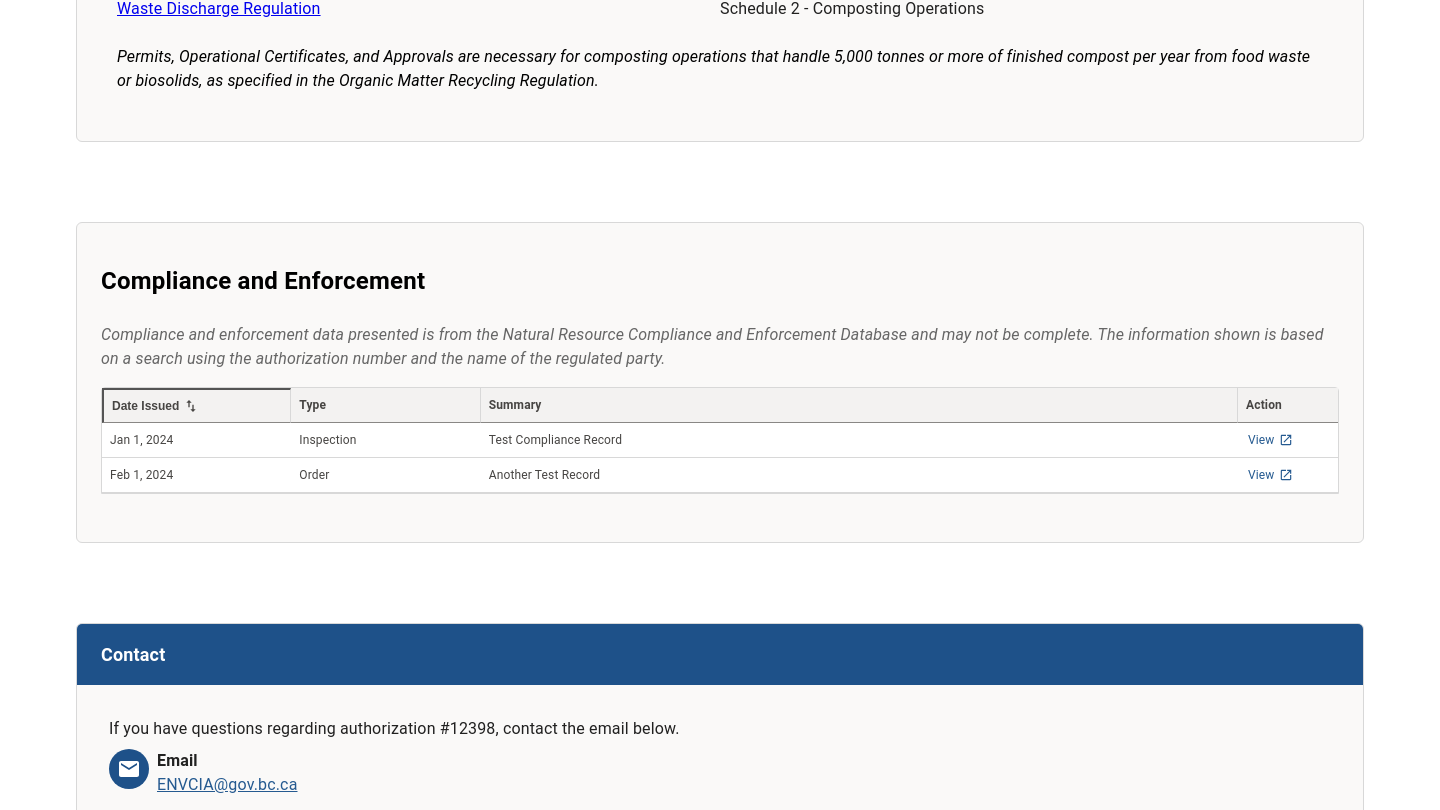
Test case: Test suite for AuthorizationDetails › should handle compliance section sorting
(page scrolled)
Expected: the text "Test Compliance Record" is shown, [481,423,1238,458]
Click the button "Date Issued" at (197, 406), box [102,388,291,423]
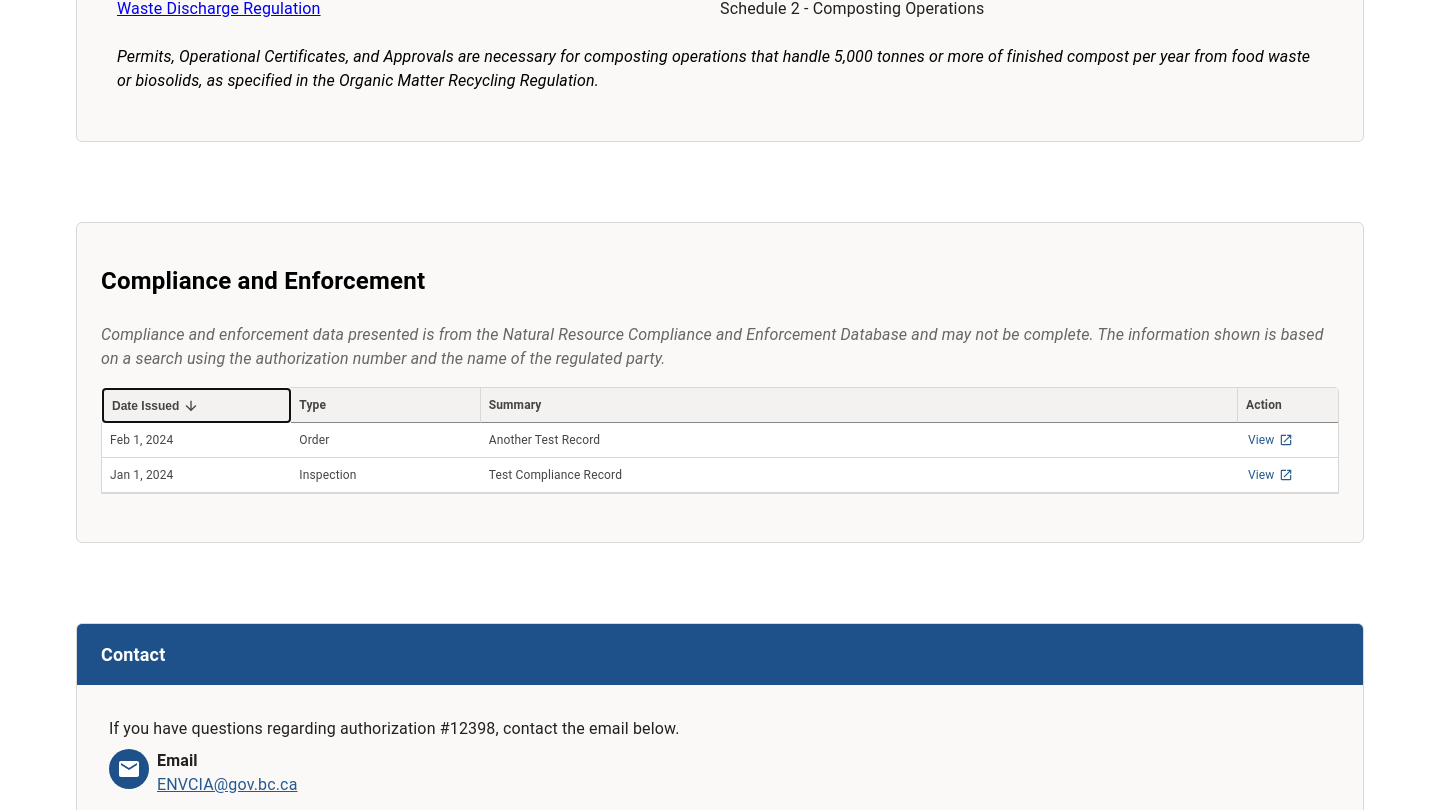
Expected: the icon with test id "ArrowDownwardIcon" is shown, [183,398,199,414]
Click the button "Date Issued" at (197, 406), box [102,388,291,423]
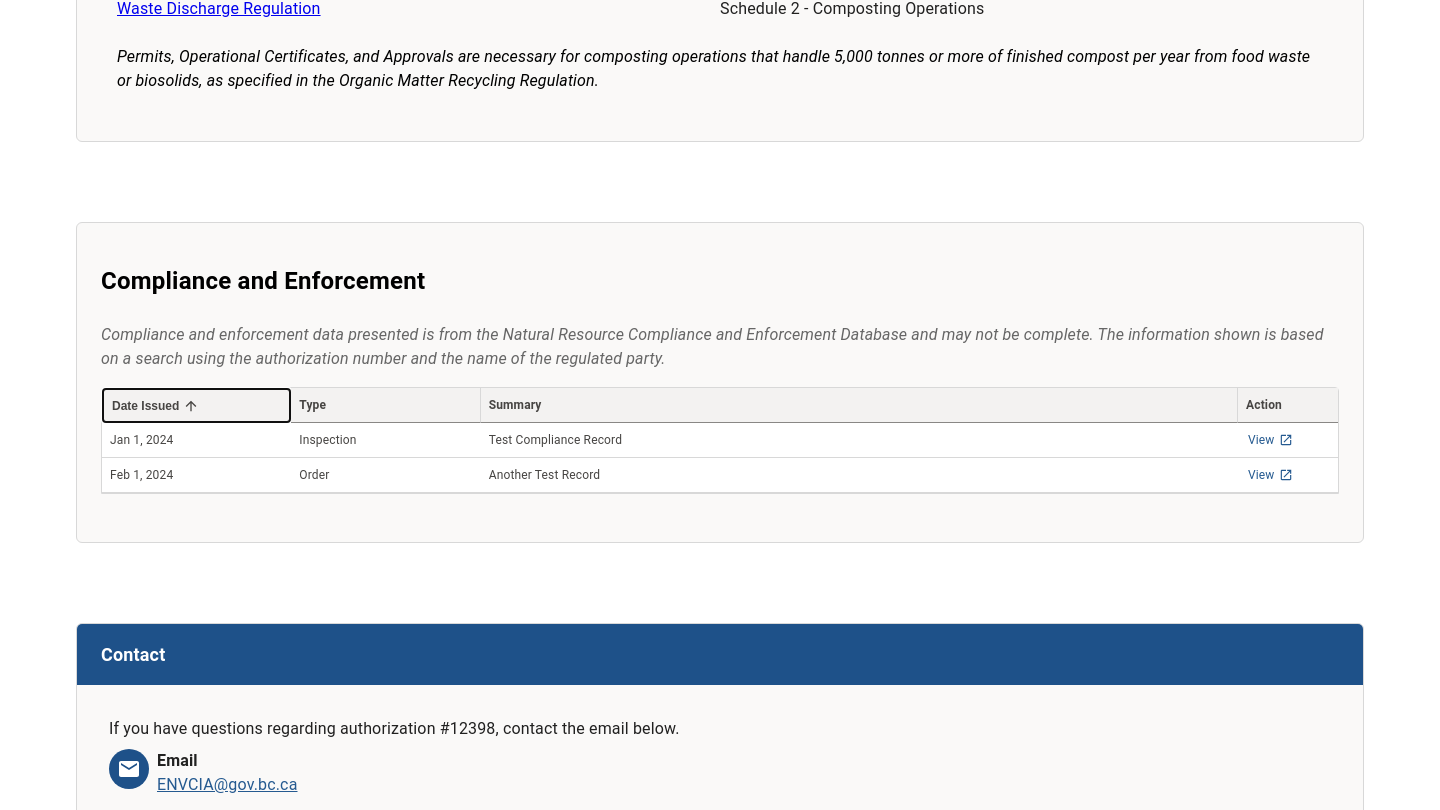
Expected: the icon with test id "ArrowUpwardIcon" is shown, [183,398,199,414]
Click the button "Date Issued" at (197, 406), box [102,388,291,423]
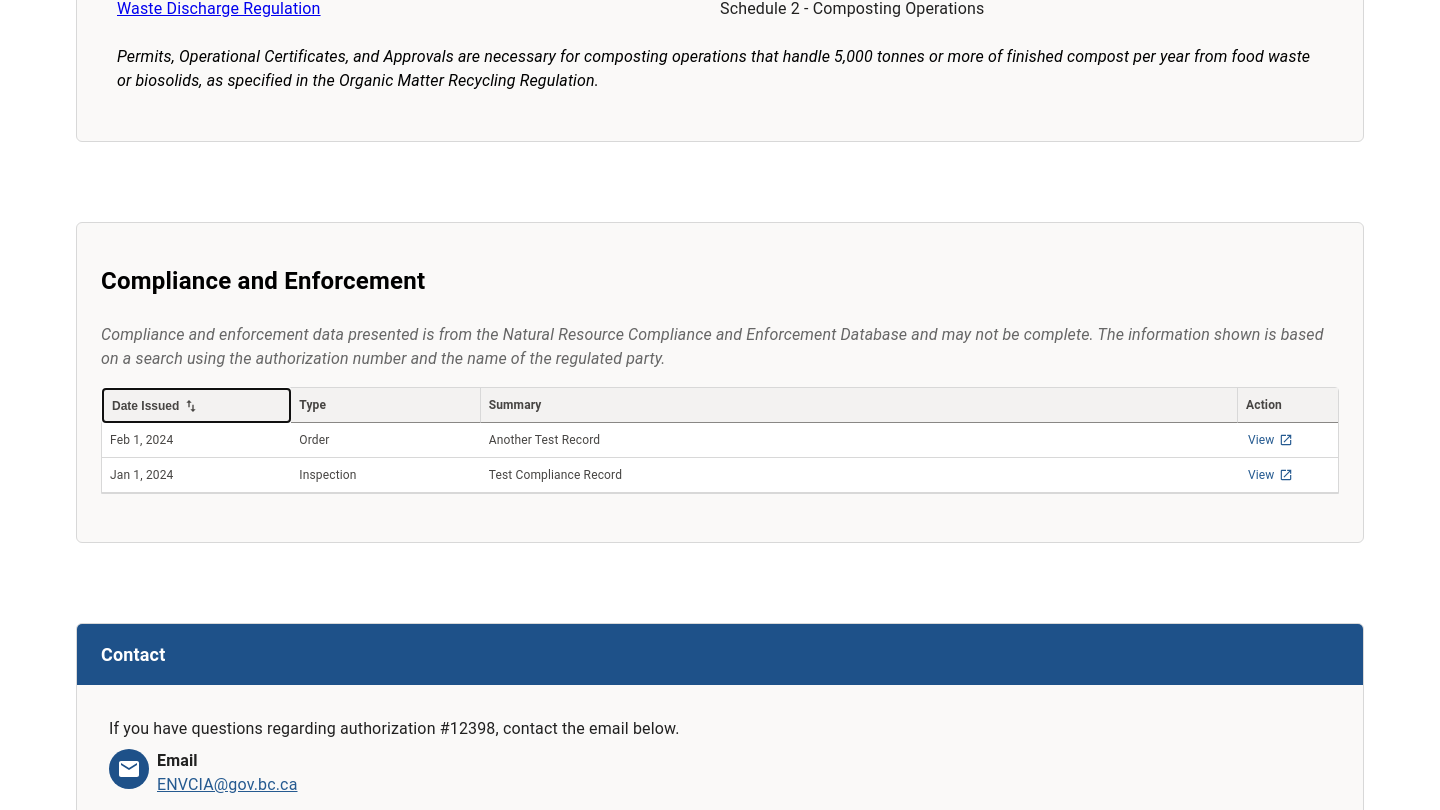
Expected: the icon with test id "ImportExportIcon" is shown, [183,398,199,414]
